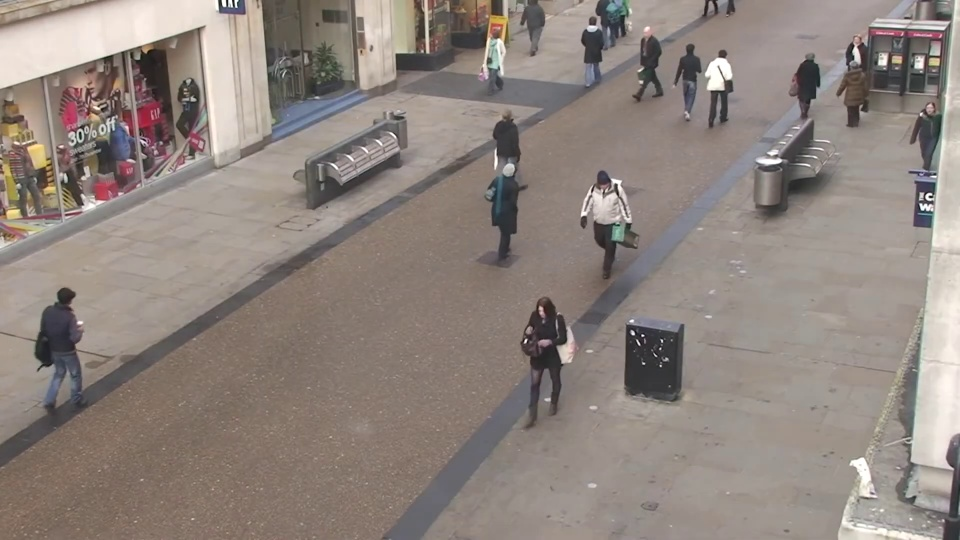pedestrian: (53, 272, 114, 407), (515, 298, 561, 442), (902, 97, 947, 192), (580, 170, 616, 281), (499, 157, 534, 264), (501, 103, 532, 196), (831, 57, 866, 139), (836, 33, 870, 110), (791, 47, 822, 125), (709, 42, 736, 118), (678, 37, 704, 112), (477, 26, 502, 97), (628, 26, 652, 97), (584, 12, 607, 79)
